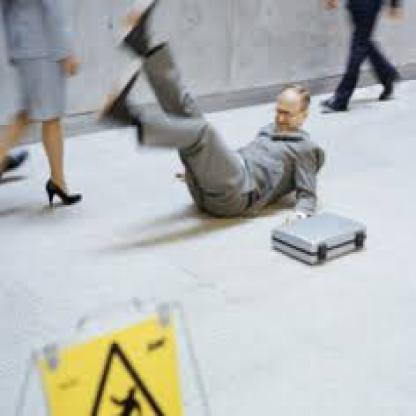Fall_Down: (99, 2, 330, 235)
